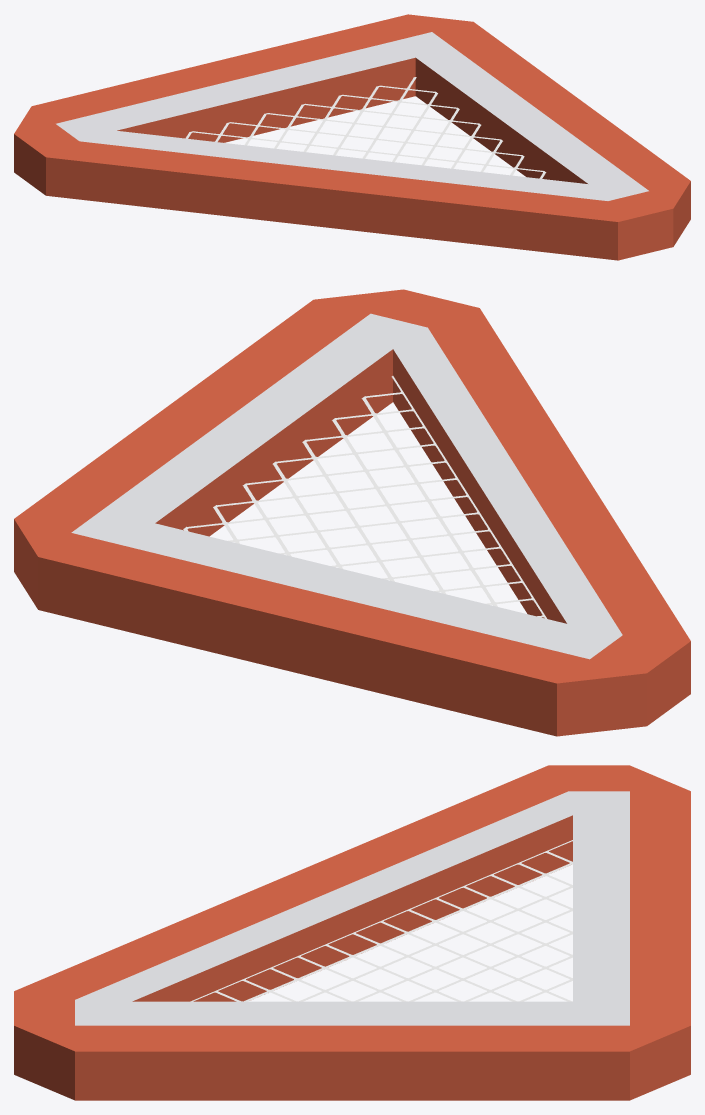
File: metalTileCorner.fbx
3 views of the same model, one above another, from view 1: azimuth 30°, elevation 25°; view 2: azimuth 150°, elevation 25°; view 3: azimuth 270°, elevation 25° (orthographic). The views are drawn at different scales.
Visible parts, largest first — view 1: metalTileCorner; view 2: metalTileCorner; view 3: metalTileCorner.
Part boxes in pixels (x1,y1,x2,y2): metalTileCorner: (14, 14, 690, 260); metalTileCorner: (14, 289, 690, 736); metalTileCorner: (14, 765, 690, 1100).
Size of the model in its own units: 10 by 0.8 by 10.
3 materials, 1 textured.
